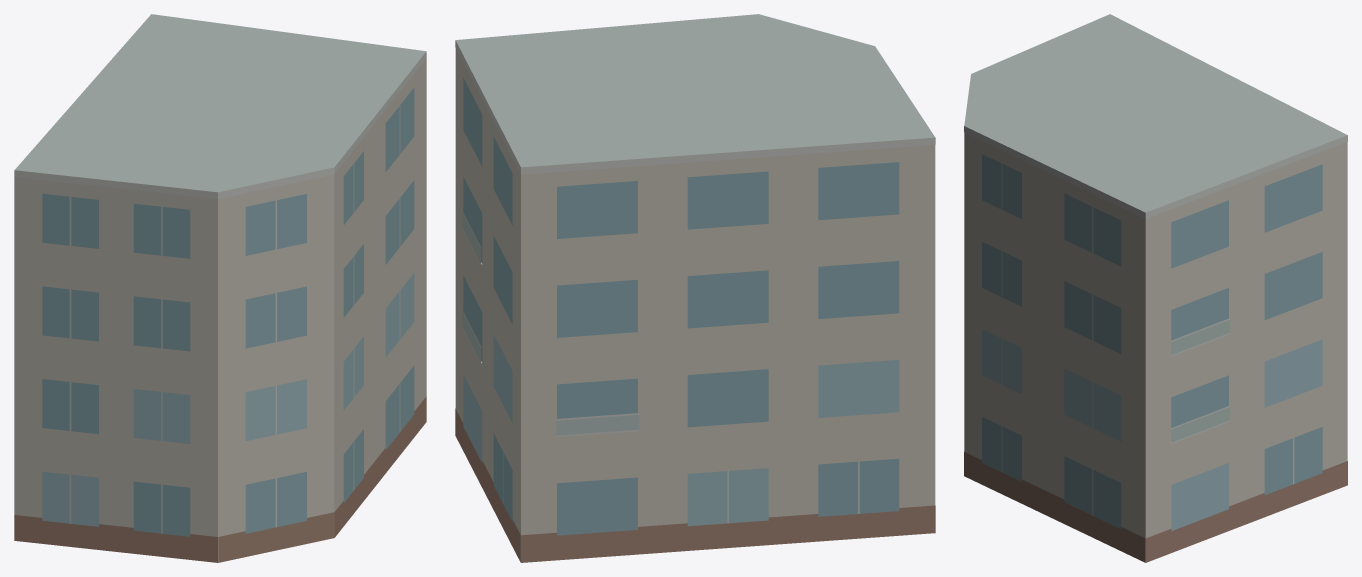
The model's file is survey-upis-33032940.glb.
3 renders of one model, left to right at view 1: azimuth 30°, elevation 25°; view 2: azimuth 150°, elevation 25°; view 3: azimuth 270°, elevation 25°, orthographic. The views are drawn at different scales.
Parts seen in each view (by area): view 1: survey-upis-33032940.tmp; view 2: survey-upis-33032940.tmp; view 3: survey-upis-33032940.tmp.
Part boxes in pixels (<box>): survey-upis-33032940.tmp: <box>14,14,426,562</box>; survey-upis-33032940.tmp: <box>455,14,935,562</box>; survey-upis-33032940.tmp: <box>964,14,1347,562</box>.
Size of the model in its own units: 16.19 by 13.3 by 13.21.
